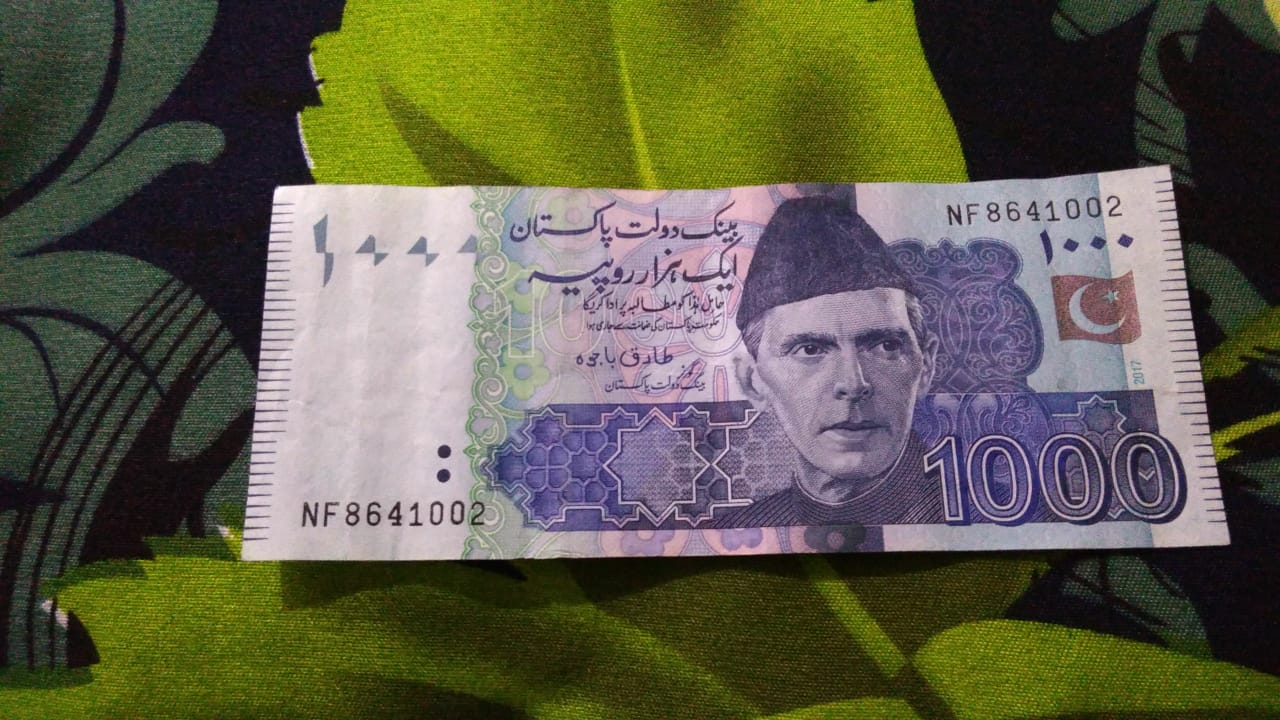1000 rupee: (257, 145, 1242, 602)
